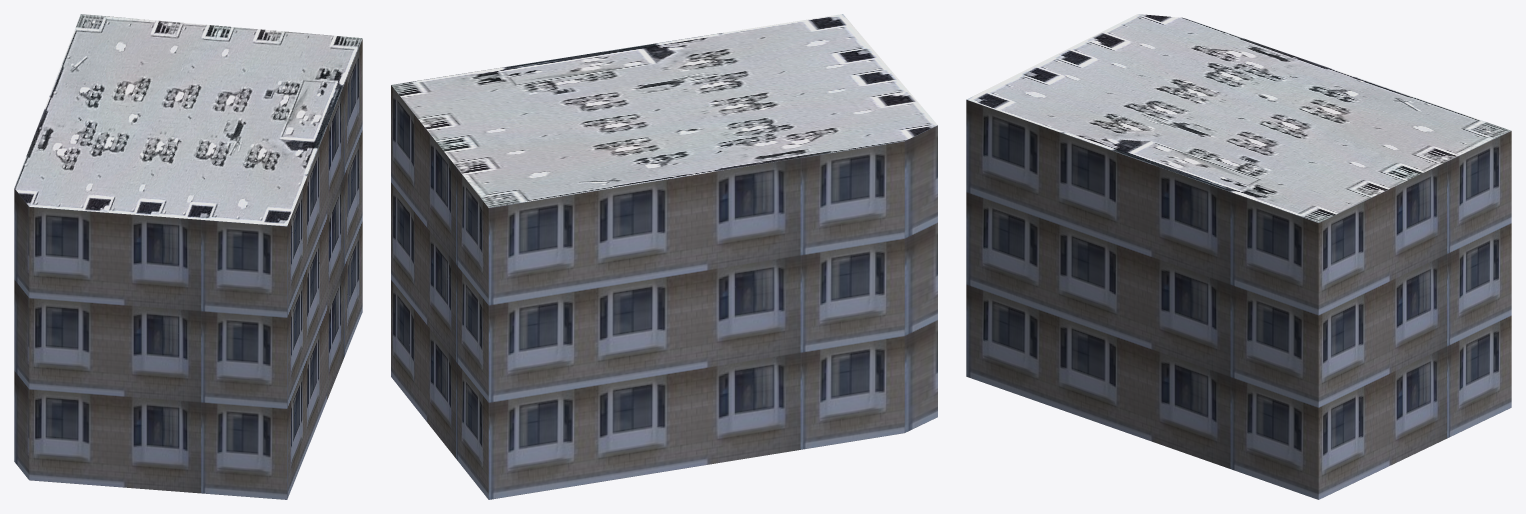
The model's file is ResTex__1611.fbx.
The picture shows the model from 3 angles, left to right: view 1: azimuth 30°, elevation 25°; view 2: azimuth 150°, elevation 25°; view 3: azimuth 270°, elevation 25°; orthographic projection. The views are drawn at different scales.
Parts seen in each view (by area): view 1: CityEngineMaterial_3_m, CityEngineMaterial_2_m; view 2: CityEngineMaterial_3_m, CityEngineMaterial_2_m; view 3: CityEngineMaterial_3_m, CityEngineMaterial_2_m.
Part boxes in pixels (<box>): CityEngineMaterial_3_m: <box>14,39,362,499</box>; CityEngineMaterial_2_m: <box>14,14,362,226</box>; CityEngineMaterial_3_m: <box>391,85,937,499</box>; CityEngineMaterial_2_m: <box>391,14,937,207</box>; CityEngineMaterial_3_m: <box>966,99,1511,499</box>; CityEngineMaterial_2_m: <box>967,14,1510,222</box>.
Size of the model in its own units: 14.56 by 9 by 16.05.
2 materials, 2 textured.
